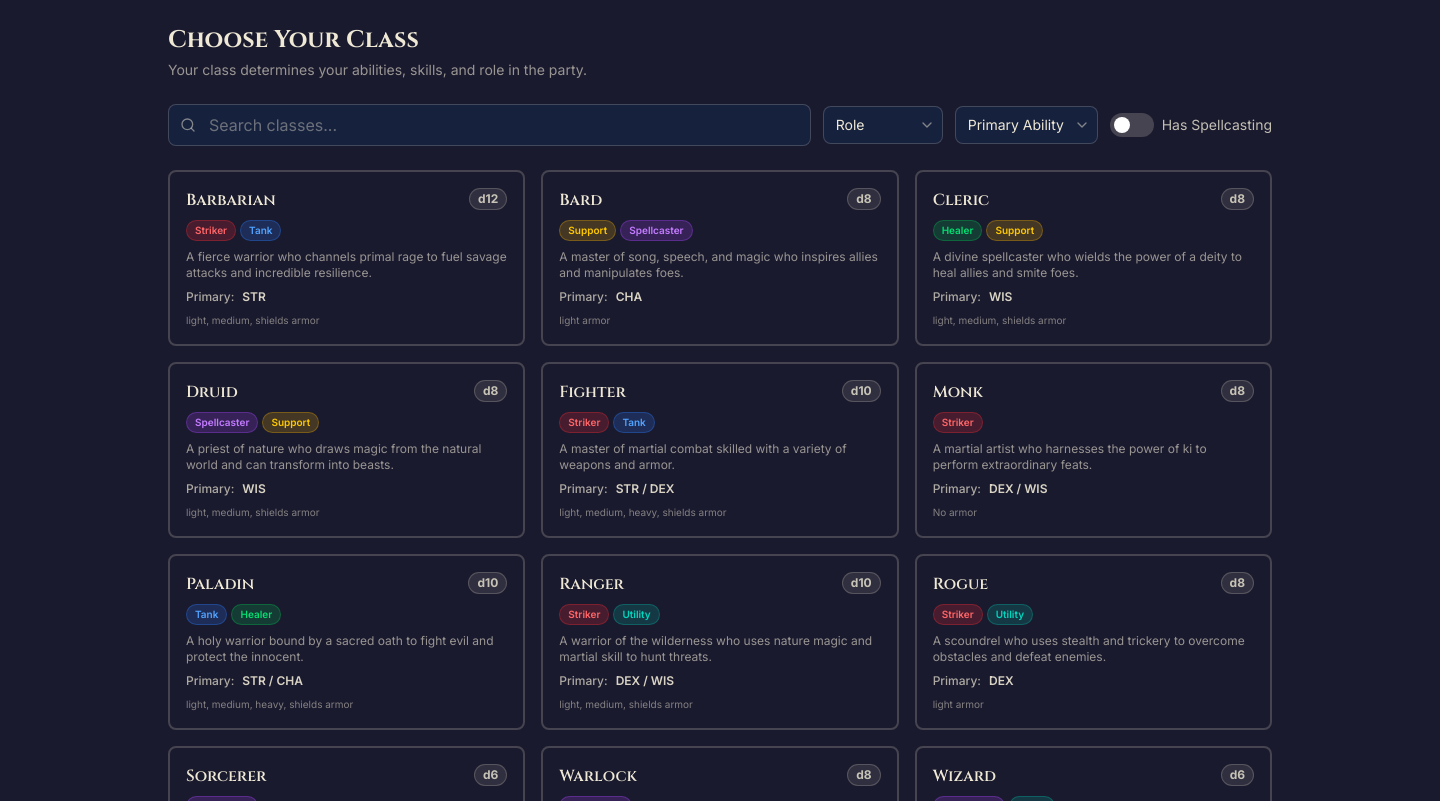
Test: ClassStep › shows subclass selector for Cleric
The image size is (1440, 801).
Step 1. Click the heading "Cleric" → click(961, 200), box left=933, top=188, right=989, bottom=212
(page scrolled)
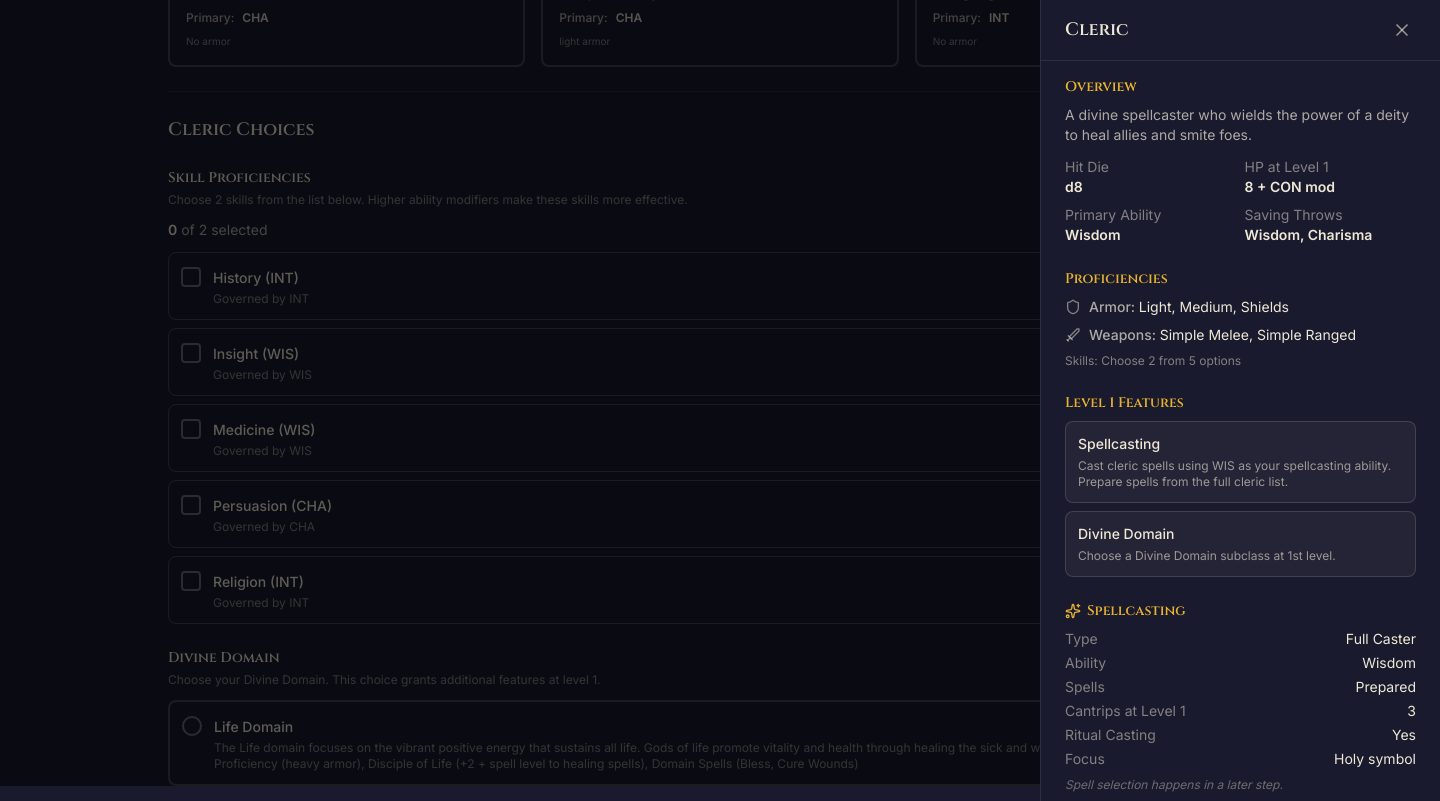
Now the heading "Cleric Choices" is shown, box left=168, top=117, right=314, bottom=142
Now the text "Life Domain" is shown, box left=214, top=718, right=293, bottom=735
